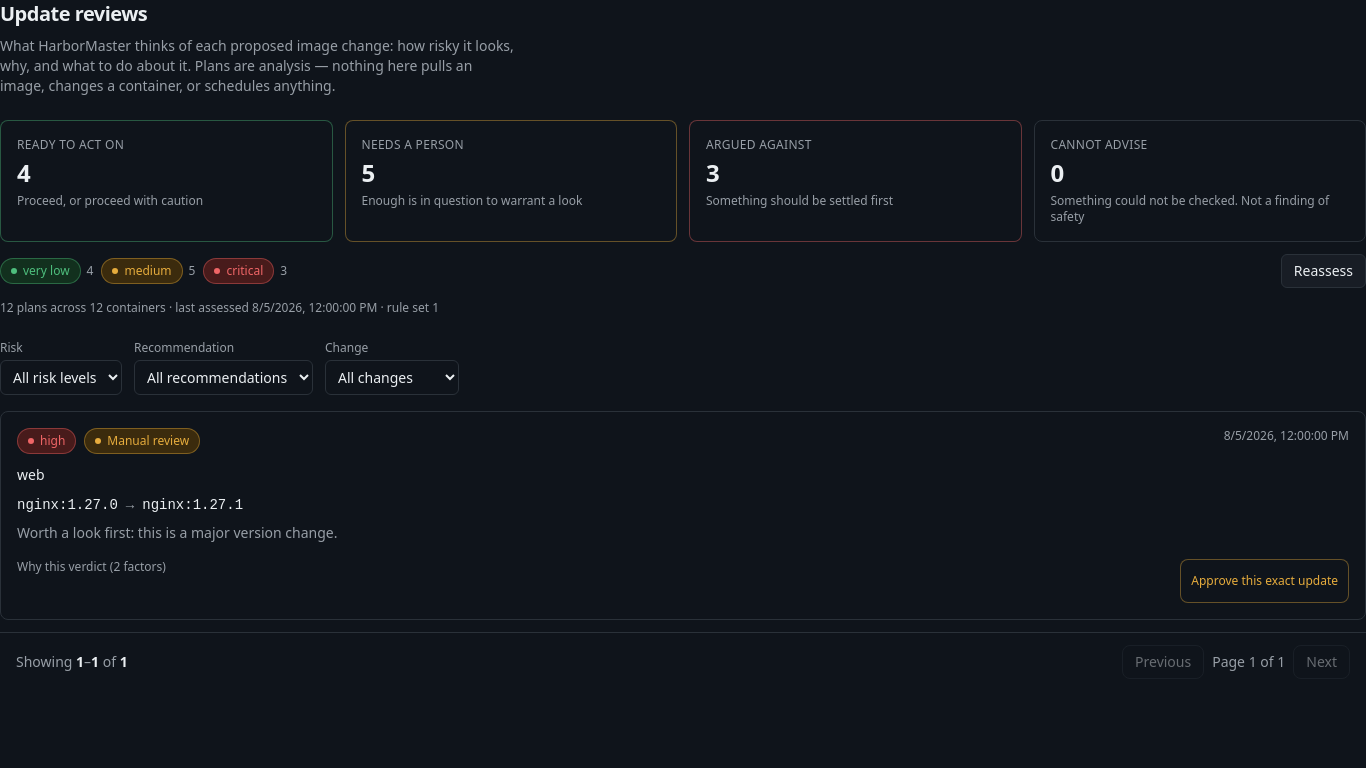
Test: shows the reasoning behind a verdict
Click the heading "Why this verdict (2 factors)": [91, 566] box 17,558 -> 166,575
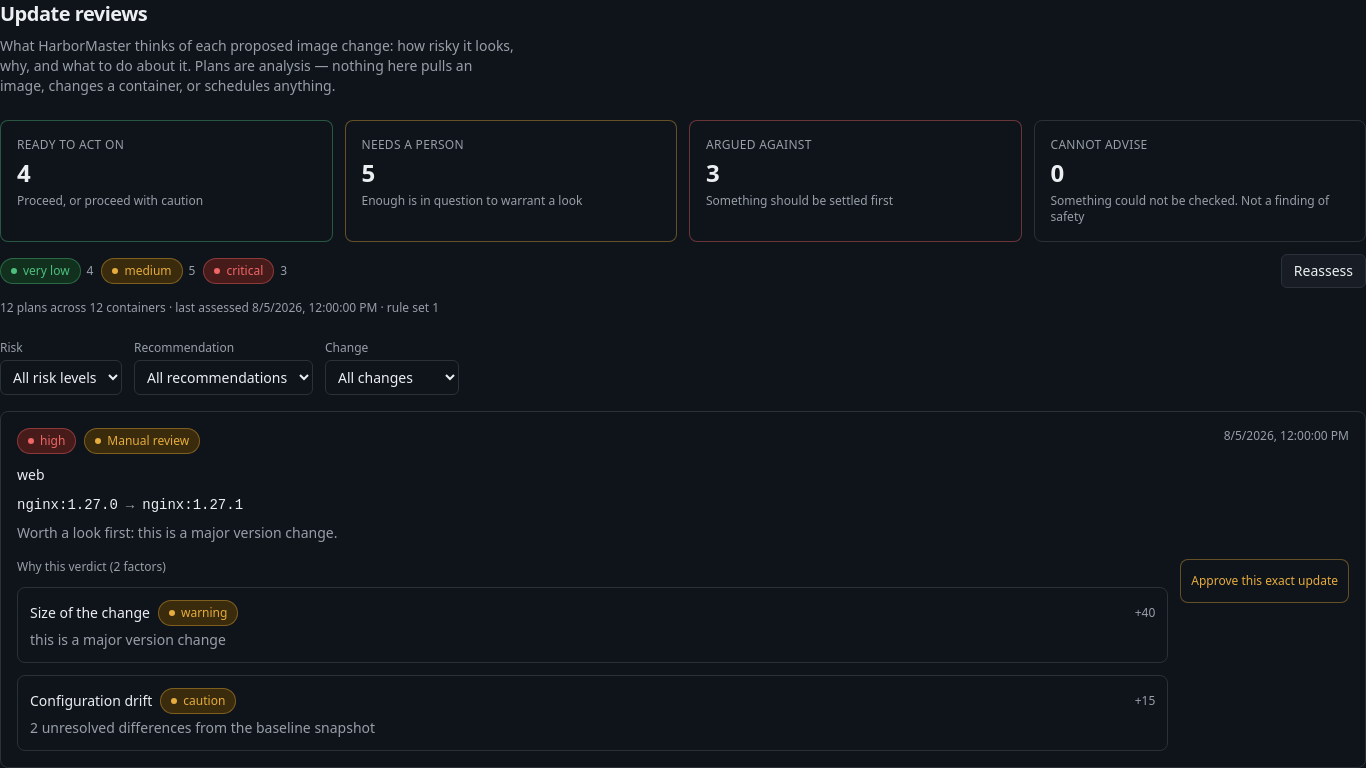
expect the text "Size of the change" is shown: met, box 30,603 -> 150,623
expect the text "Configuration drift" is shown: met, box 30,691 -> 152,711
expect the text "this is a major version change" is shown: met, box 30,630 -> 226,649
